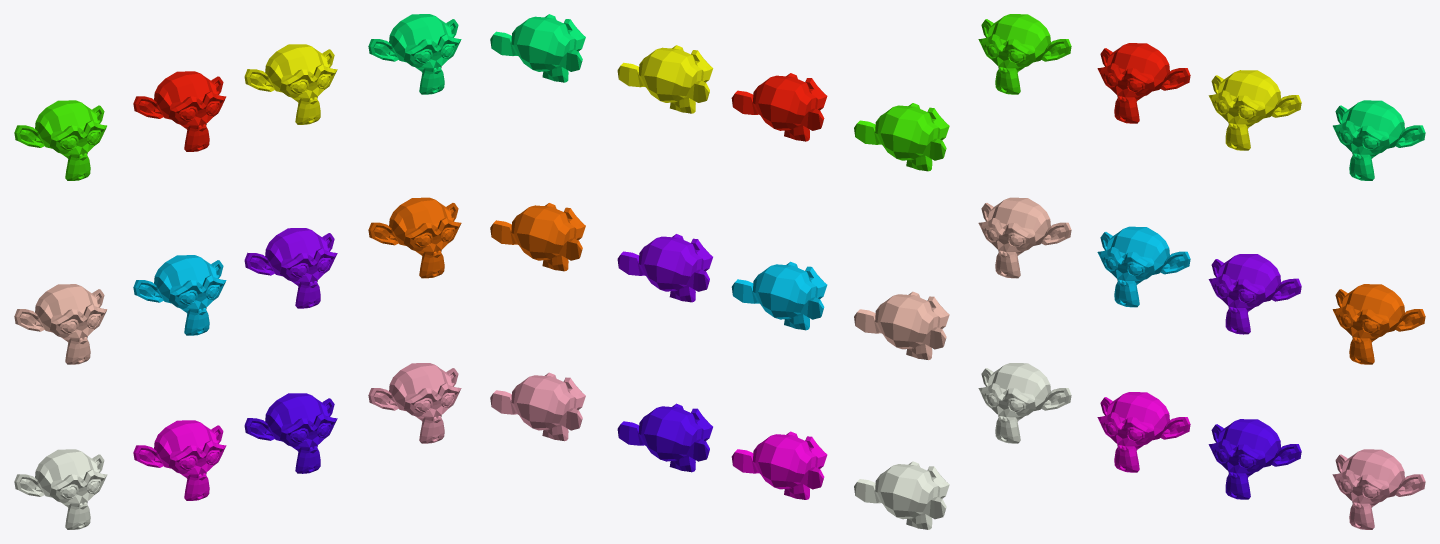
The model's file is 1702992226_All.glb.
The picture shows the model from 3 angles, left to right: view 1: azimuth 30°, elevation 25°; view 2: azimuth 150°, elevation 25°; view 3: azimuth 330°, elevation 25°; orthographic projection. The views are drawn at different scales.
Visible parts, largest first — view 1: Suzanne.011, Suzanne.016, Suzanne.001, Suzanne.015, Suzanne.012, Suzanne.014, Suzanne.010, Suzanne.002, Suzanne.009, Suzanne.013, Suzanne.006, Suzanne.007; view 2: Suzanne.007, Suzanne.015, Suzanne.006, Suzanne.009, Suzanne.016, Suzanne.002, Suzanne.014, Suzanne.010, Suzanne.013, Suzanne.001, Suzanne.011, Suzanne.012; view 3: Suzanne.002, Suzanne.013, Suzanne.007, Suzanne.006, Suzanne.009, Suzanne.010, Suzanne.014, Suzanne.015, Suzanne.012, Suzanne.016, Suzanne.011, Suzanne.001.
Part boxes in pixels (bbox=[...]): Suzanne.011: bbox=[133, 71, 226, 151]; Suzanne.016: bbox=[14, 449, 107, 529]; Suzanne.001: bbox=[368, 197, 461, 278]; Suzanne.015: bbox=[133, 420, 226, 500]; Suzanne.012: bbox=[14, 100, 106, 180]; Suzanne.014: bbox=[244, 393, 337, 473]; Suzanne.010: bbox=[244, 44, 337, 124]; Suzanne.002: bbox=[244, 228, 337, 308]; Suzanne.009: bbox=[368, 14, 461, 94]; Suzanne.013: bbox=[368, 363, 461, 443]; Suzanne.006: bbox=[133, 255, 226, 335]; Suzanne.007: bbox=[14, 284, 107, 364]; Suzanne.007: bbox=[854, 291, 949, 359]; Suzanne.015: bbox=[731, 431, 827, 499]; Suzanne.006: bbox=[731, 261, 827, 330]; Suzanne.009: bbox=[490, 14, 585, 82]; Suzanne.016: bbox=[854, 461, 949, 529]; Suzanne.002: bbox=[617, 234, 712, 302]; Suzanne.014: bbox=[617, 403, 712, 472]; Suzanne.010: bbox=[617, 45, 713, 113]; Suzanne.013: bbox=[490, 372, 585, 441]; Suzanne.001: bbox=[490, 203, 585, 271]; Suzanne.011: bbox=[731, 73, 827, 141]; Suzanne.012: bbox=[854, 103, 949, 171]; Suzanne.002: bbox=[1208, 254, 1301, 334]; Suzanne.013: bbox=[1332, 449, 1425, 529]; Suzanne.007: bbox=[978, 197, 1071, 278]; Suzanne.006: bbox=[1097, 226, 1190, 307]; Suzanne.009: bbox=[1333, 100, 1425, 180]; Suzanne.010: bbox=[1208, 70, 1301, 150]; Suzanne.014: bbox=[1208, 419, 1301, 499]; Suzanne.015: bbox=[1097, 392, 1190, 472]; Suzanne.012: bbox=[978, 14, 1071, 94]; Suzanne.016: bbox=[978, 363, 1071, 443]; Suzanne.011: bbox=[1097, 43, 1190, 123]; Suzanne.001: bbox=[1332, 284, 1425, 364].
Bounding box in the file's own units: 13.58 × 12.19 × 1.7.
